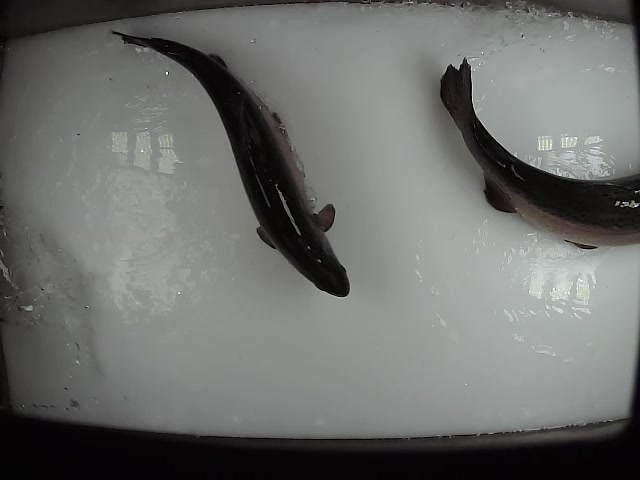fish: (107, 28, 352, 298), (437, 53, 640, 254)
